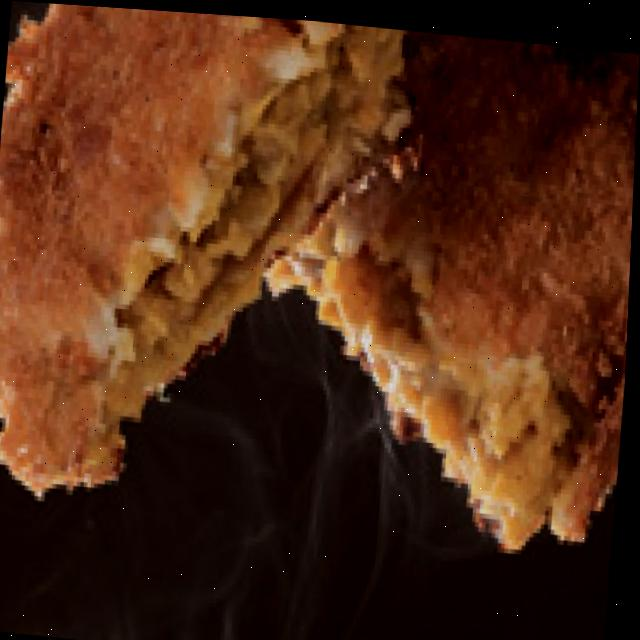炸货点心: (0, 0, 640, 569)
